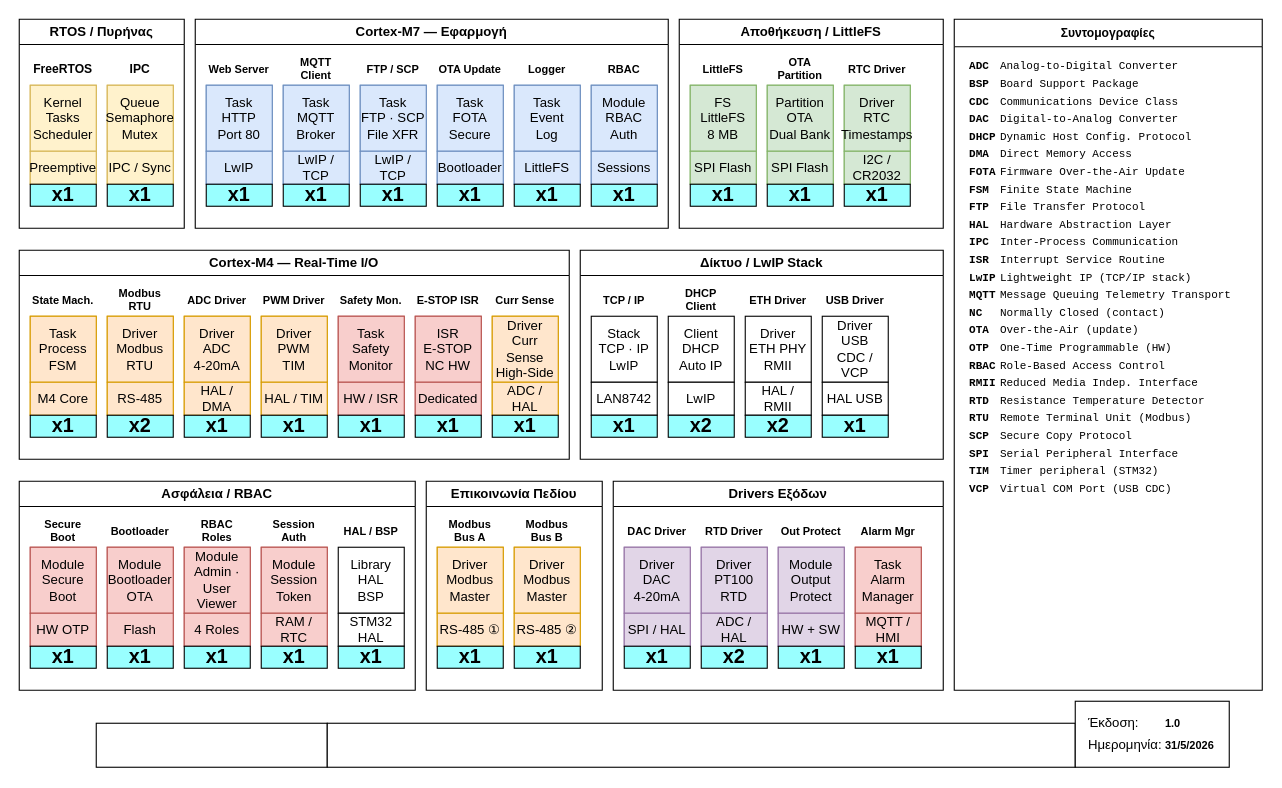
The diagram is 1282 pixels wide and 788 high, and some of its shapes have lost their labels. Each missing label, with the centre of its shape:
OliveCrab — Modules, Tasks & Drivers: pixel 700 744
Διάγραμμα Firmware Λογισμικό Πλακέτας: pixel 211 744
